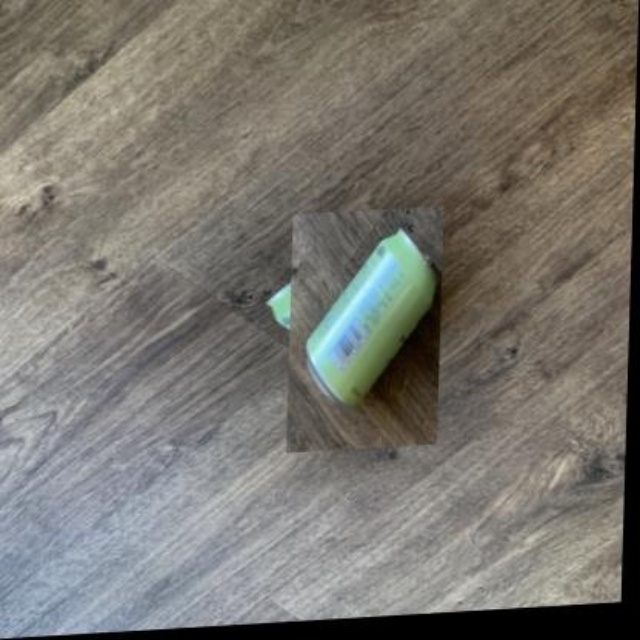trash: (306, 229, 435, 405)
